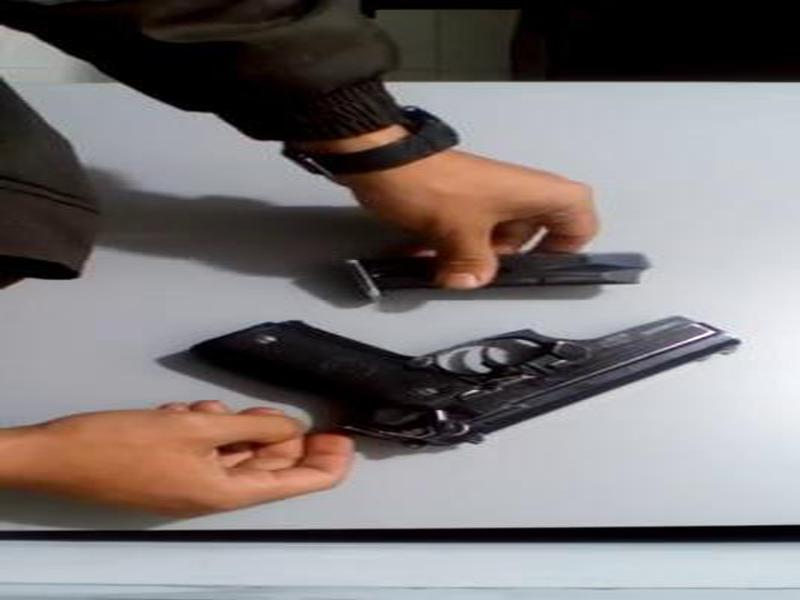Pistola: (175, 284, 772, 439)
